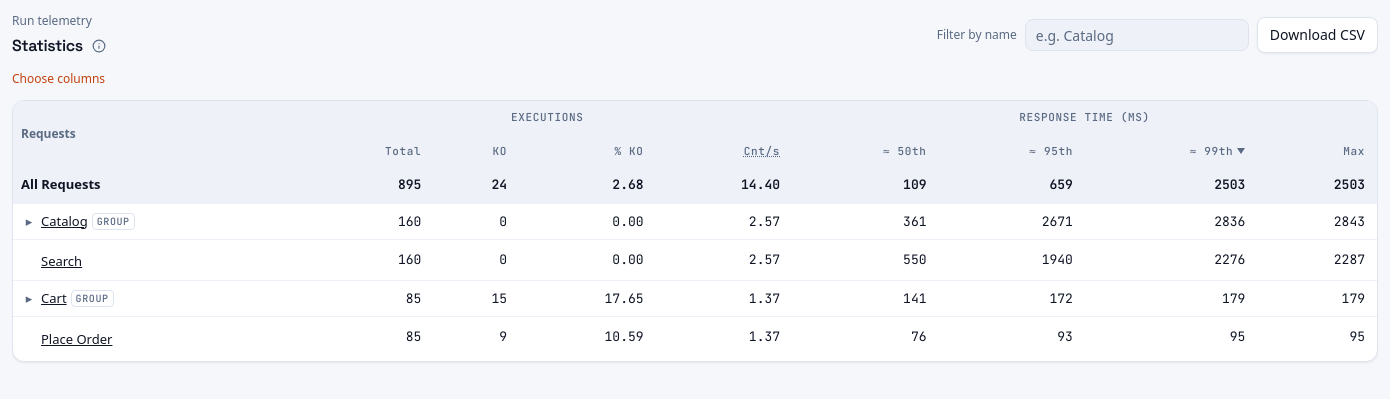
Test: StatisticsTable — a shared link carries the question › writes the sort into the URL when a header is clicked
Click the button with aria-label "sort by 95th" at (1051, 151), box [1029,142,1073,159]
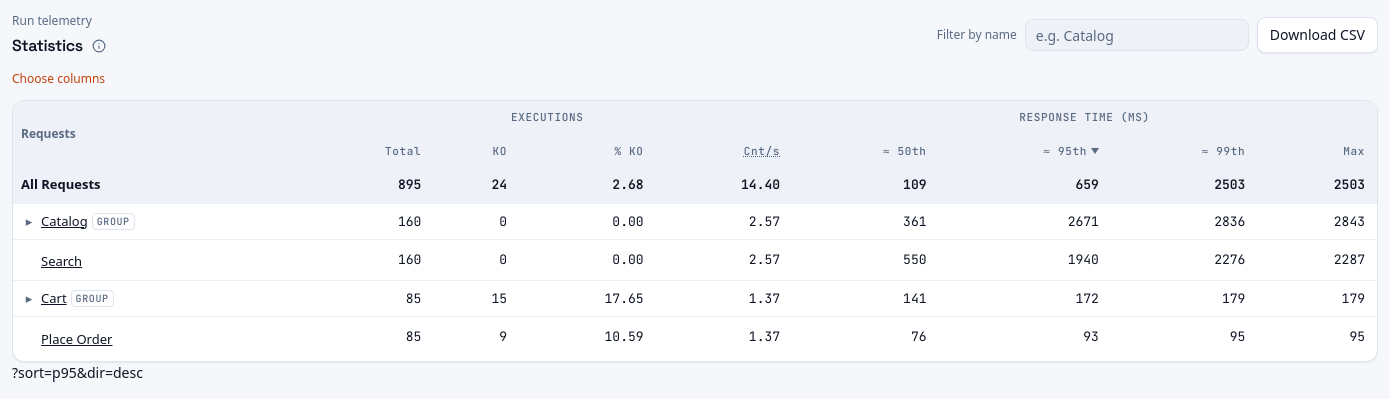
Expected: the text with test id "where" shows "sort=p95", [12,363,143,382]
